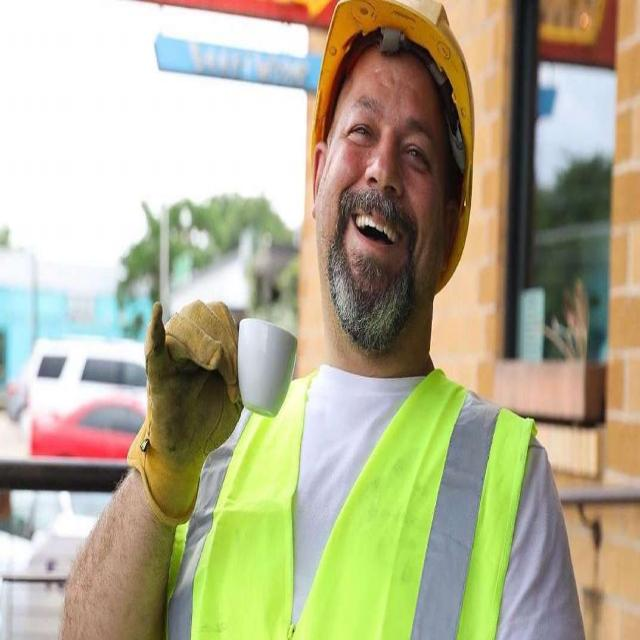Reflective-Jacket: (175, 364, 542, 634)
Safety-Helmet: (305, 0, 484, 151)
